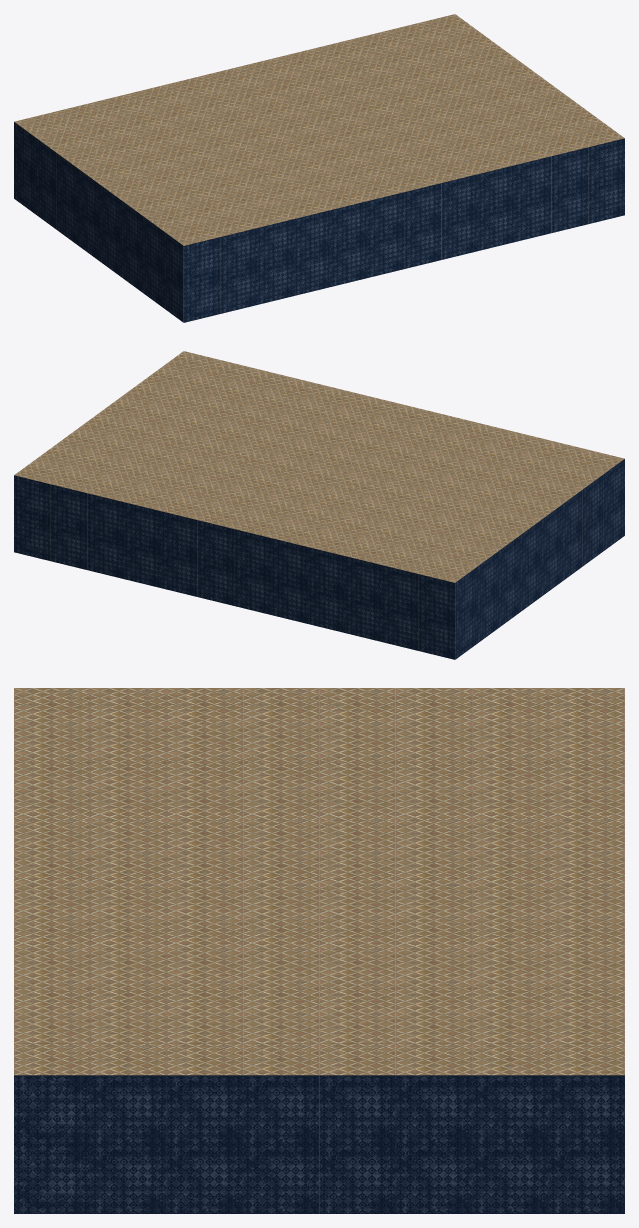
The model's file is level.fbx.
3 views of the same model, one above another, from view 1: azimuth 30°, elevation 25°; view 2: azimuth 150°, elevation 25°; view 3: azimuth 270°, elevation 25° (orthographic). The views are drawn at different scales.
Visible parts, largest first — view 1: pCube236; view 2: pCube236; view 3: pCube236.
Part boxes in pixels (x1=…): pCube236: x1=14, y1=14, x2=624, y2=322; pCube236: x1=14, y1=351, x2=624, y2=659; pCube236: x1=14, y1=688, x2=624, y2=1213.
Bounding box in the file's own units: 60 × 10 × 40.
